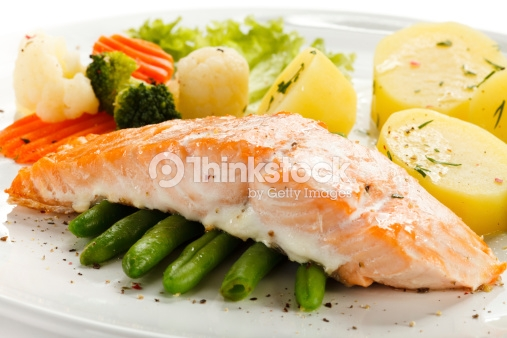boiled potatoes: (392, 33, 494, 188)
